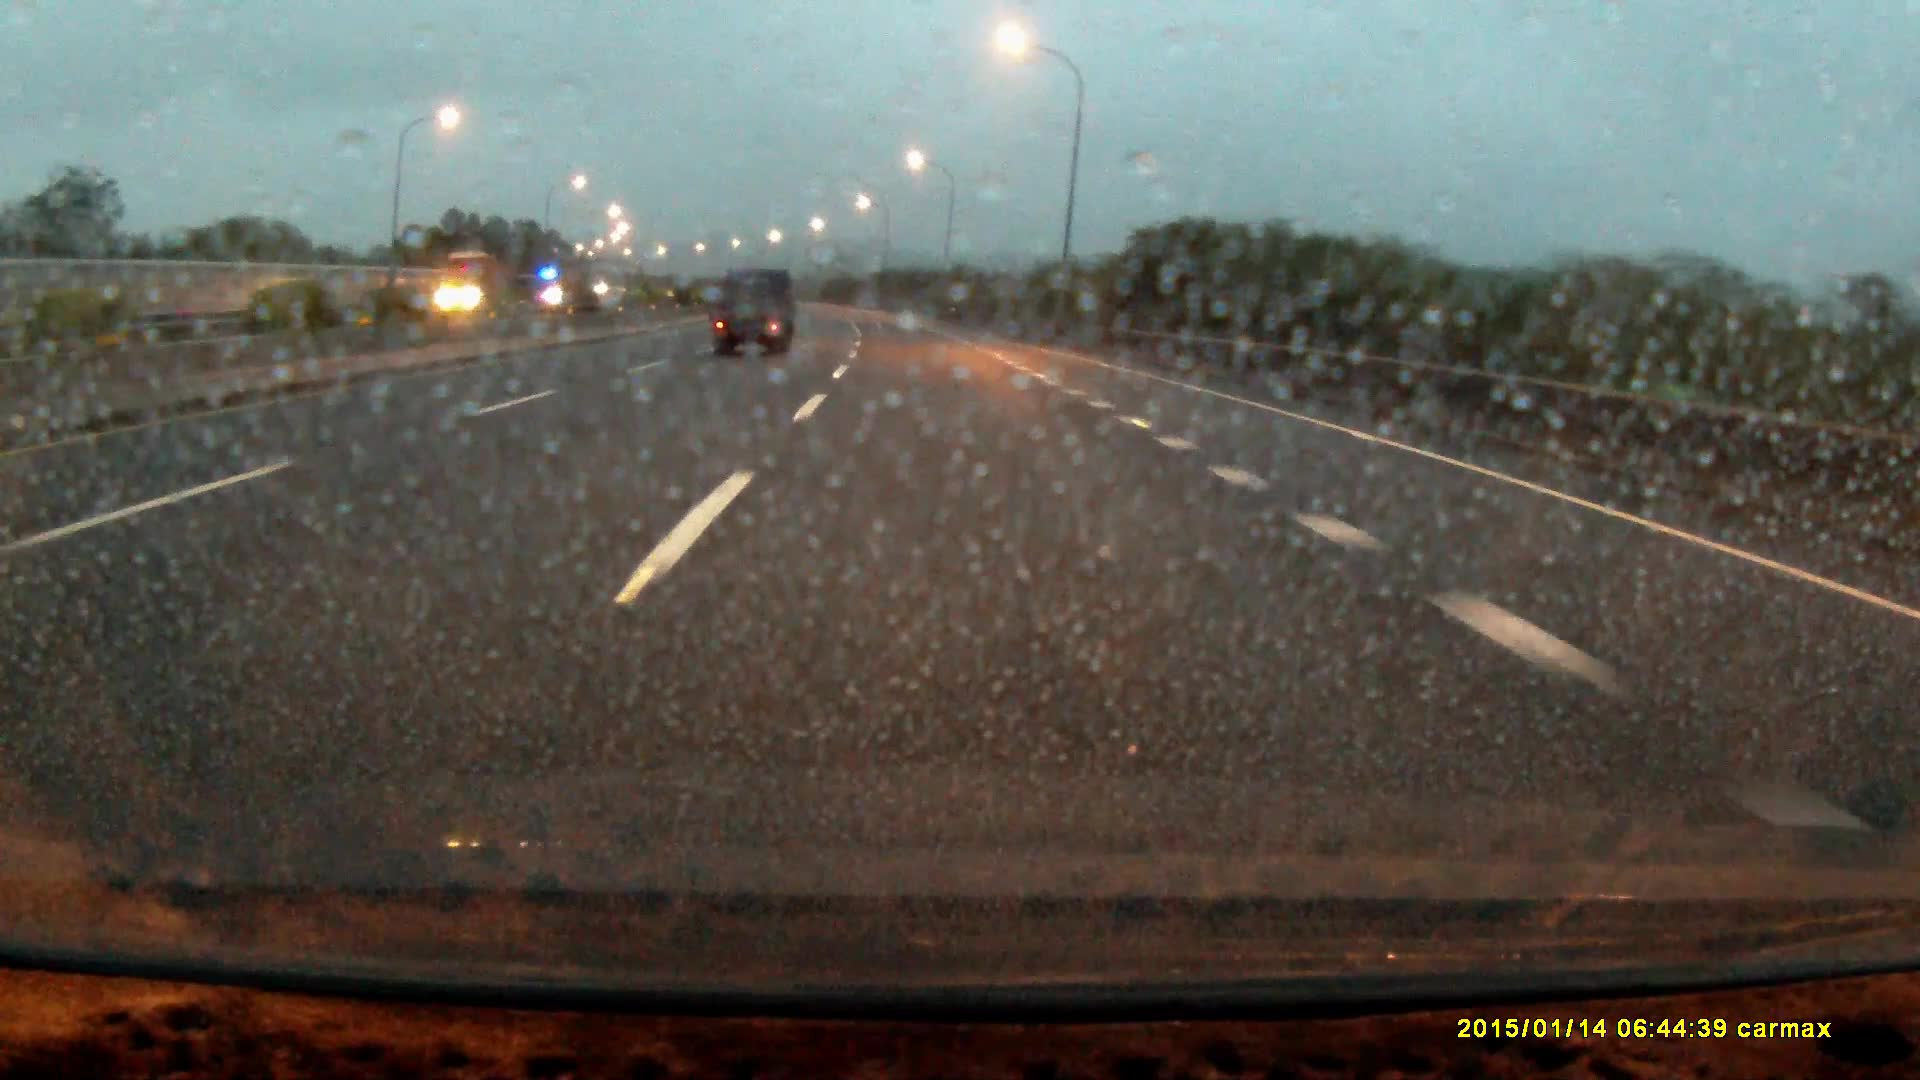vehicle: (715, 266, 794, 360), (439, 251, 520, 314)
